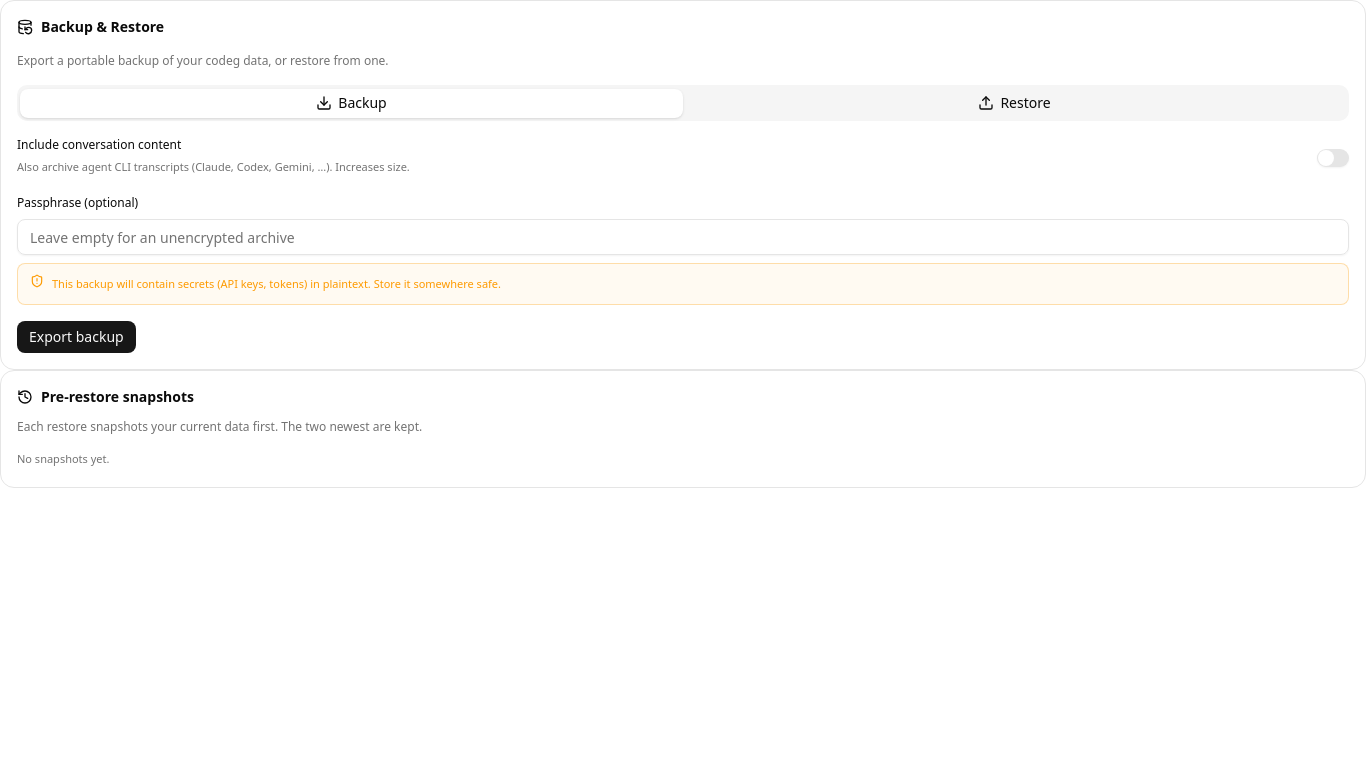
it: BackupSettings — export › surfaces a degraded session store instead of reporting a clean backup
Click the button "Export backup". click: (76,337)
box: [17,321,136,353]
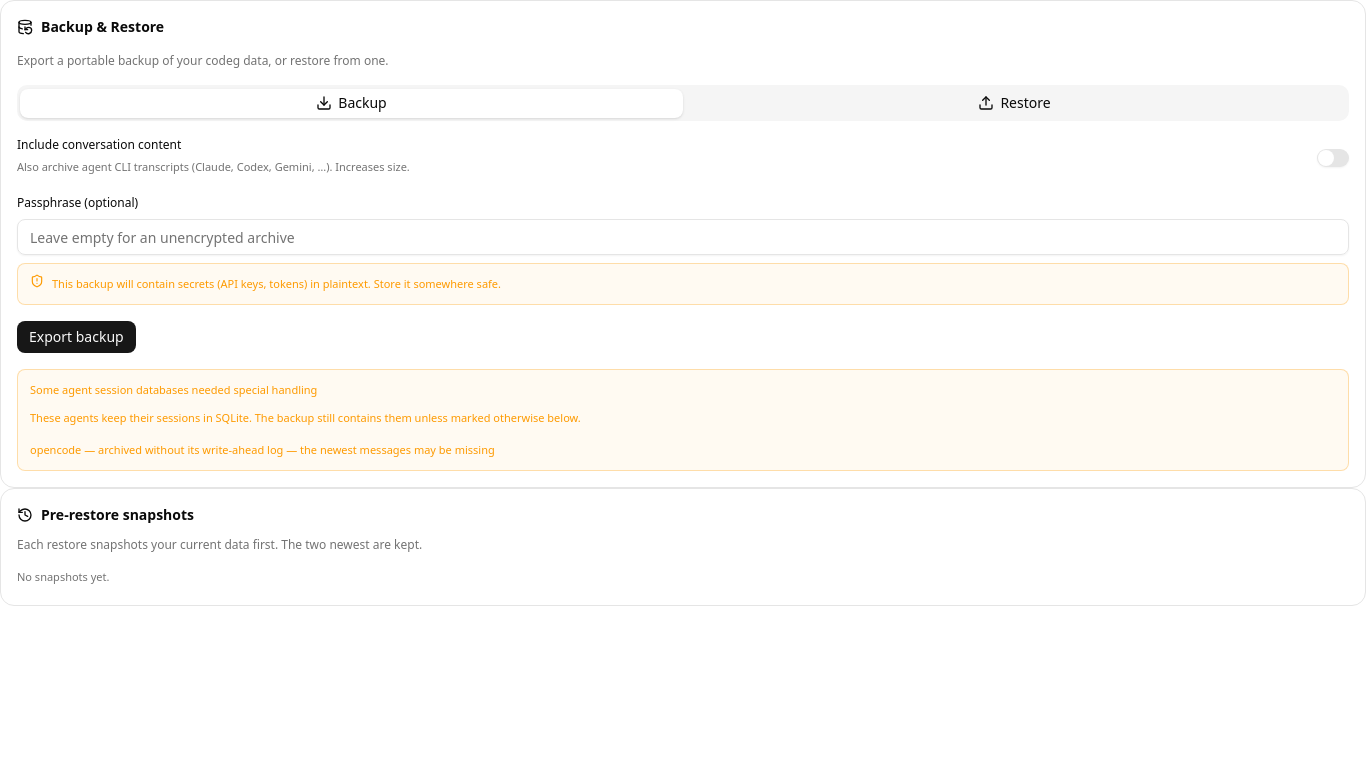
Expected: the text "Some agent session databases needed special handling" is shown, [30,382,317,397]
Expected: the list item "opencode" is shown, [30,442,81,457]
